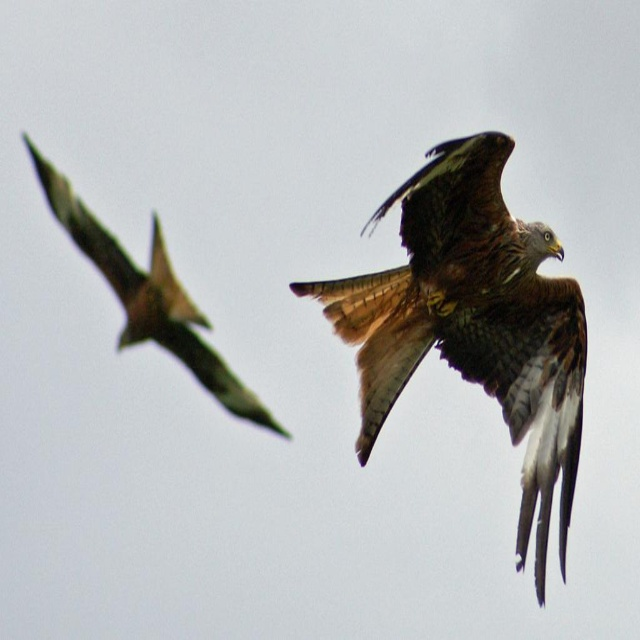Eagle: (285, 126, 590, 606)
